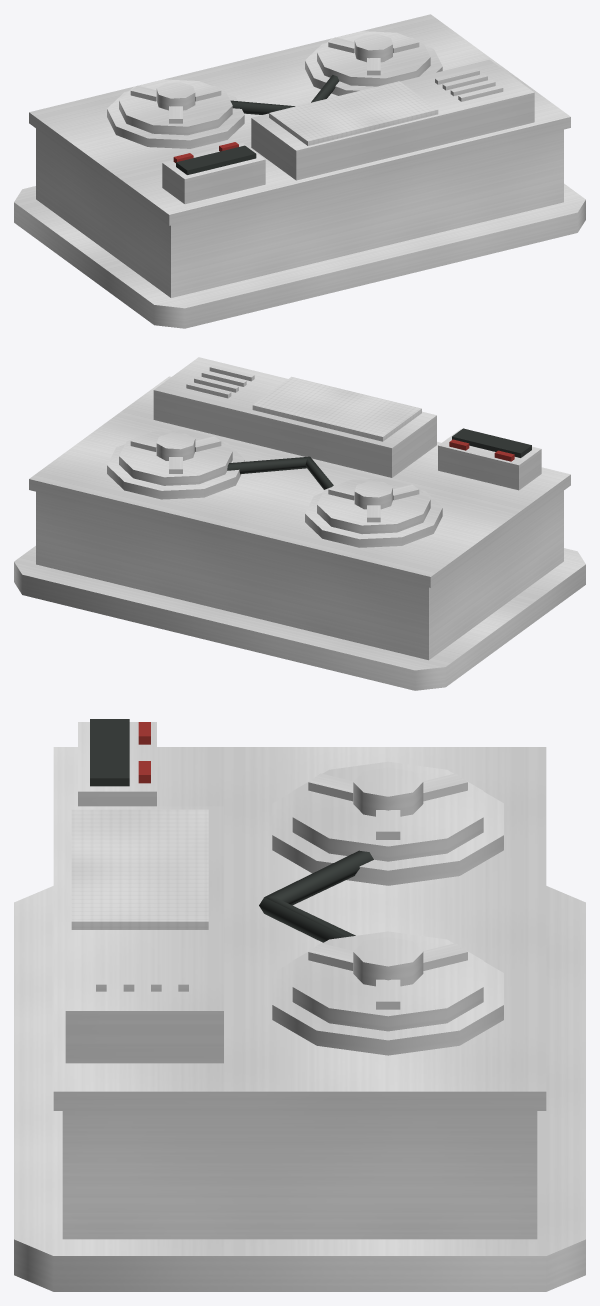
The model's file is subcore_encoder.obj.
3 views of the same model, one above another, from view 1: azimuth 30°, elevation 25°; view 2: azimuth 150°, elevation 25°; view 3: azimuth 270°, elevation 25° (orthographic). The views are drawn at different scales.
Visible parts, largest first — view 1: source_component_001, source_component_002, source_component_000, source_component_016, source_component_017, source_component_004, source_component_010, source_component_022, source_component_003, source_component_023, source_component_009, source_component_005 (+2 smaller); view 2: source_component_001, source_component_002, source_component_000, source_component_016, source_component_017, source_component_004, source_component_010, source_component_022, source_component_003, source_component_009, source_component_015, source_component_023 (+2 smaller); view 3: source_component_002, source_component_001, source_component_000, source_component_016, source_component_017, source_component_010, source_component_004, source_component_009, source_component_003, source_component_015, source_component_022, source_component_005 (+8 smaller).
Part boxes in pixels (<box>): source_component_001: <box>36,128,563,297</box>; source_component_002: <box>29,14,570,225</box>; source_component_000: <box>14,183,585,328</box>; source_component_016: <box>251,59,534,180</box>; source_component_017: <box>269,81,438,145</box>; source_component_004: <box>119,79,232,135</box>; source_component_010: <box>317,31,430,86</box>; source_component_022: <box>162,143,265,204</box>; source_component_003: <box>107,91,244,148</box>; source_component_023: <box>176,145,256,174</box>; source_component_009: <box>305,43,442,95</box>; source_component_005: <box>156,82,195,110</box>; source_component_001: <box>36,491,563,660</box>; source_component_002: <box>29,376,570,587</box>; source_component_000: <box>14,546,585,690</box>; source_component_016: <box>153,357,436,477</box>; source_component_017: <box>252,376,421,441</box>; source_component_004: <box>317,478,430,534</box>; source_component_010: <box>119,430,232,485</box>; source_component_022: <box>438,429,541,490</box>; source_component_003: <box>305,490,442,547</box>; source_component_009: <box>107,441,244,499</box>; source_component_015: <box>227,456,333,489</box>; source_component_023: <box>452,428,531,457</box>; source_component_002: <box>53,747,546,1110</box>; source_component_001: <box>62,1111,537,1239</box>; source_component_000: <box>14,886,585,1291</box>; source_component_016: <box>65,806,223,1063</box>; source_component_017: <box>71,809,208,929</box>; source_component_010: <box>292,931,483,1031</box>; source_component_004: <box>292,761,483,861</box>; source_component_009: <box>272,961,503,1055</box>; source_component_003: <box>272,792,503,885</box>; source_component_015: <box>259,850,373,942</box>; source_component_022: <box>78,722,156,806</box>; source_component_005: <box>353,767,423,816</box>.
Bounding box in the file's own units: 2.88 × 0.9 × 1.88.
